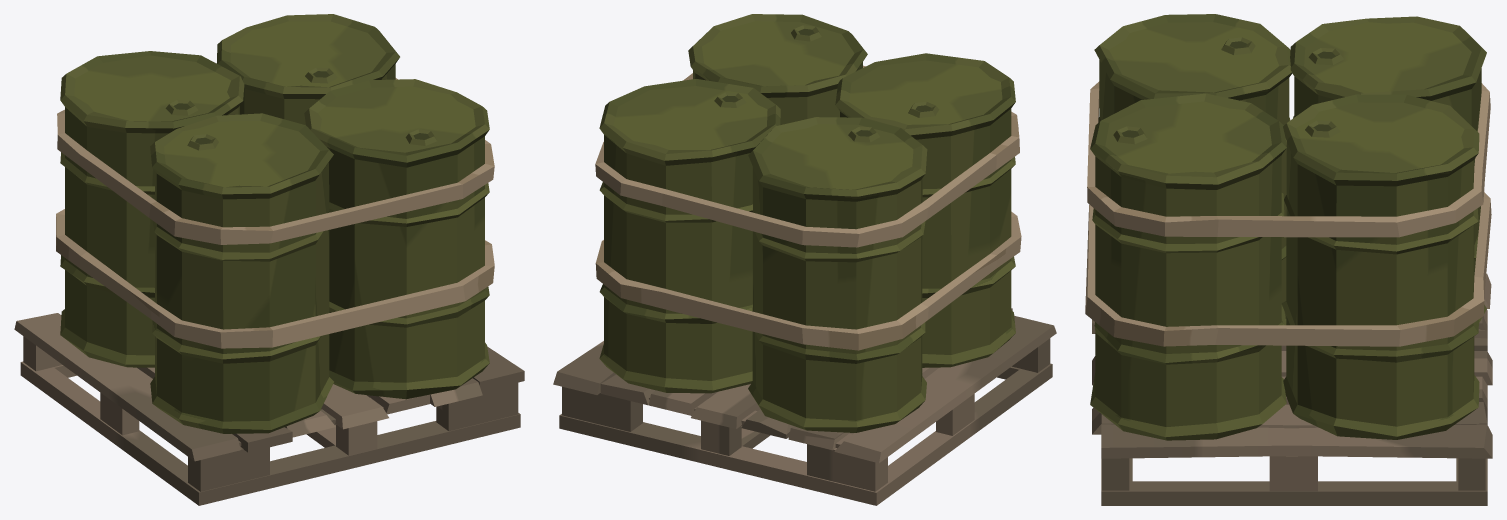
File: SM_Prop_Barrel_Stack_01.glb
3 views of the same model, side by side, from view 1: azimuth 30°, elevation 25°; view 2: azimuth 150°, elevation 25°; view 3: azimuth 270°, elevation 25° (orthographic). The views are drawn at different scales.
Parts seen in each view (by area): view 1: SM_Prop_Barrel_Stack_01; view 2: SM_Prop_Barrel_Stack_01; view 3: SM_Prop_Barrel_Stack_01.
Part boxes in pixels (x1,y1,x2,y2): SM_Prop_Barrel_Stack_01: (14,14,524,505); SM_Prop_Barrel_Stack_01: (553,14,1056,505); SM_Prop_Barrel_Stack_01: (1085,14,1492,505).
Size of the model in its own units: 1.46 by 1.28 by 1.44.
Materials: 1 (1 with a texture image).
